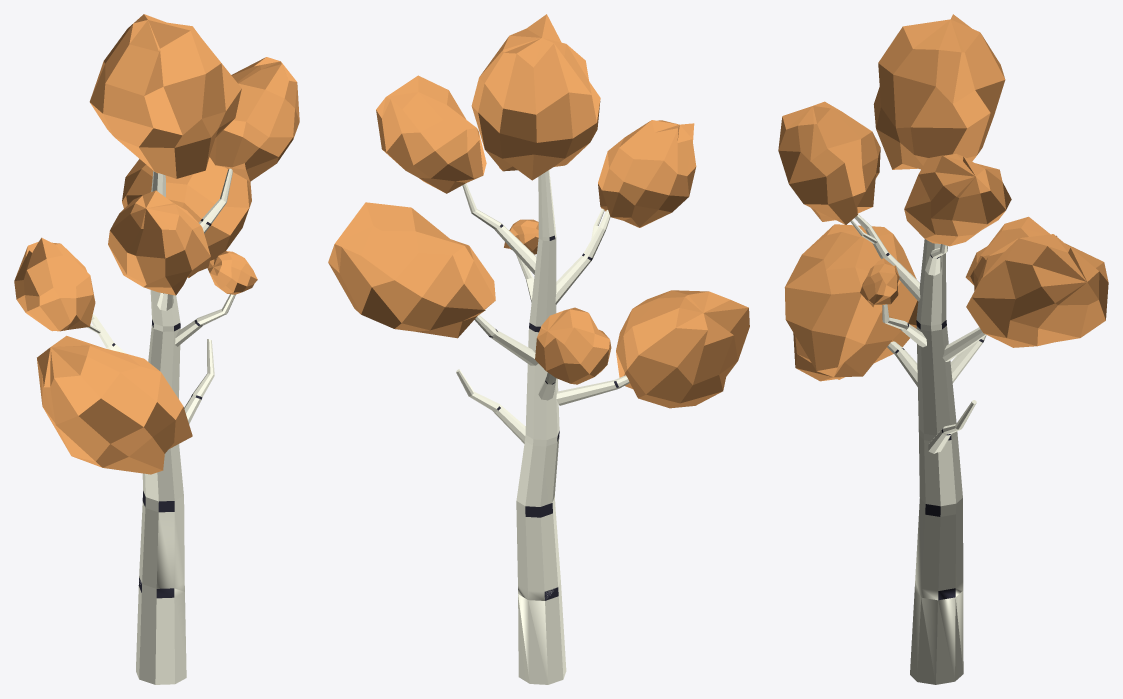
Rendered from TopAutumnTreefbx.fbx.
3 views of the same model, side by side, from view 1: azimuth 30°, elevation 25°; view 2: azimuth 150°, elevation 25°; view 3: azimuth 270°, elevation 25° (orthographic).
Parts seen in each view (by area): view 1: Berezka3.003, Berezka3.001; view 2: Berezka3.003, Berezka3.001; view 3: Berezka3.003, Berezka3.001.
Part boxes in pixels (box(x1,y1,x2,y2)): Berezka3.003: box(14, 14, 299, 591); Berezka3.001: box(136, 577, 186, 684); Berezka3.003: box(328, 14, 749, 600); Berezka3.001: box(518, 580, 566, 684); Berezka3.003: box(778, 14, 1108, 600); Berezka3.001: box(910, 582, 963, 684).
Size of the model in its own units: 314 by 643 by 294.
